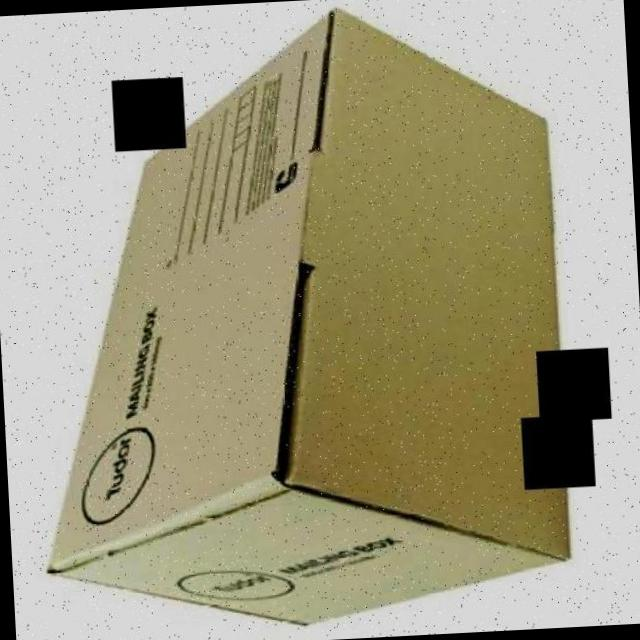box: (18, 0, 583, 639)
